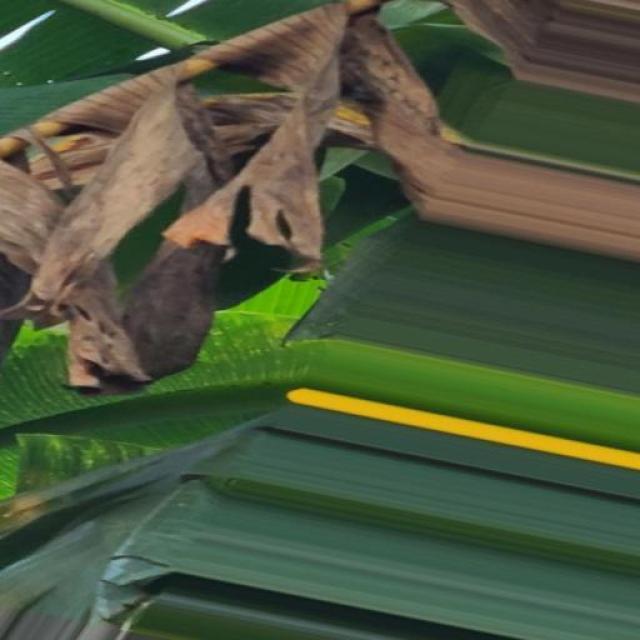Bract_mosaic_virus: (154, 0, 640, 284), (5, 80, 278, 381)
